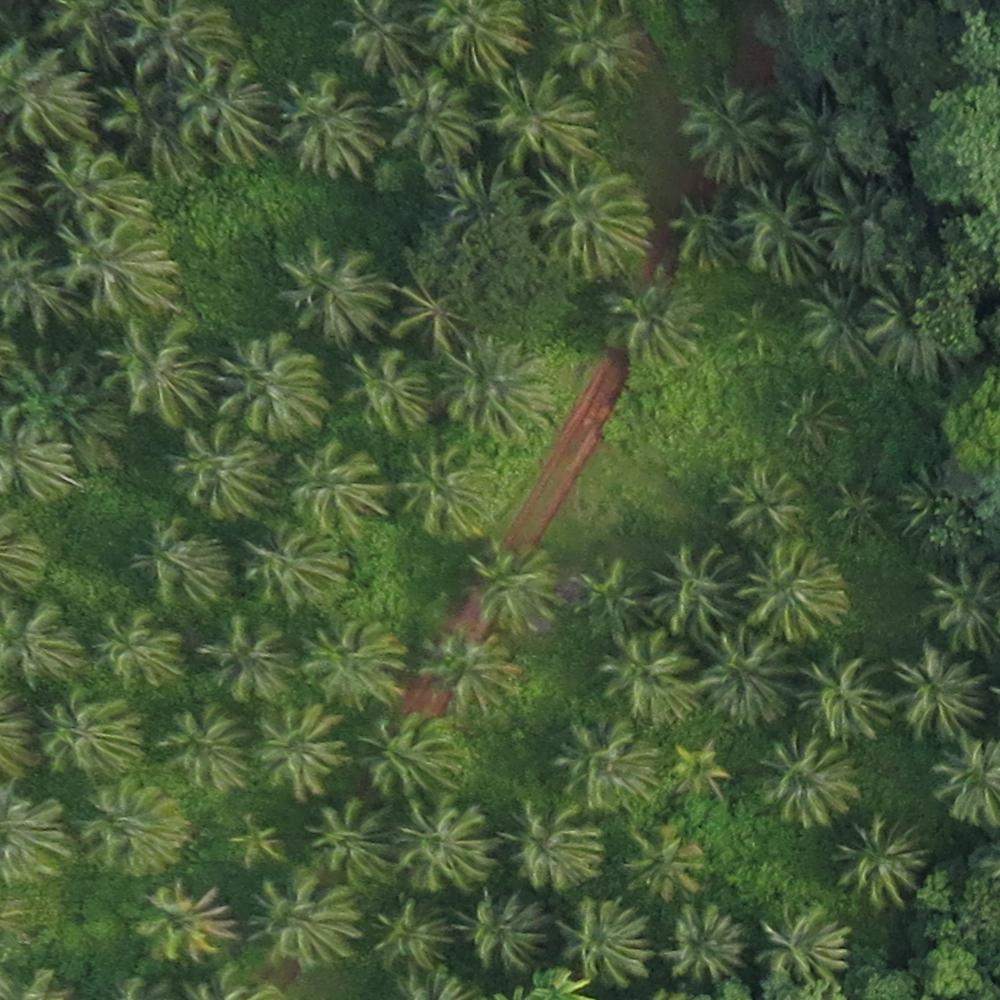Palm: (534, 159, 655, 274), (104, 314, 219, 423), (55, 219, 174, 319), (171, 58, 277, 165), (220, 336, 329, 440), (486, 74, 597, 176), (249, 868, 362, 968), (280, 74, 386, 180), (444, 338, 553, 441), (678, 77, 785, 177), (391, 800, 504, 893), (540, 1, 651, 94), (746, 541, 850, 640), (168, 425, 273, 521), (279, 239, 385, 334), (358, 711, 470, 800), (302, 616, 407, 710), (27, 144, 147, 226), (282, 440, 390, 531), (556, 715, 660, 807), (388, 69, 485, 167), (506, 799, 606, 894), (757, 733, 860, 825), (890, 640, 987, 736), (248, 702, 348, 795), (33, 694, 145, 777), (704, 628, 801, 723), (736, 181, 829, 280), (198, 609, 299, 700), (399, 447, 498, 539), (83, 785, 186, 873), (603, 630, 701, 722), (246, 525, 351, 609), (420, 626, 521, 713), (157, 706, 251, 799), (801, 647, 896, 739), (834, 815, 927, 908), (135, 883, 235, 968), (557, 898, 651, 986), (128, 518, 224, 604), (91, 605, 187, 690), (608, 279, 701, 366), (460, 889, 551, 977), (651, 542, 741, 630), (346, 346, 437, 433), (303, 802, 396, 886), (469, 545, 563, 628), (761, 902, 851, 988), (368, 895, 455, 979), (723, 461, 811, 536), (664, 902, 746, 982), (627, 821, 707, 901), (572, 560, 654, 636)
